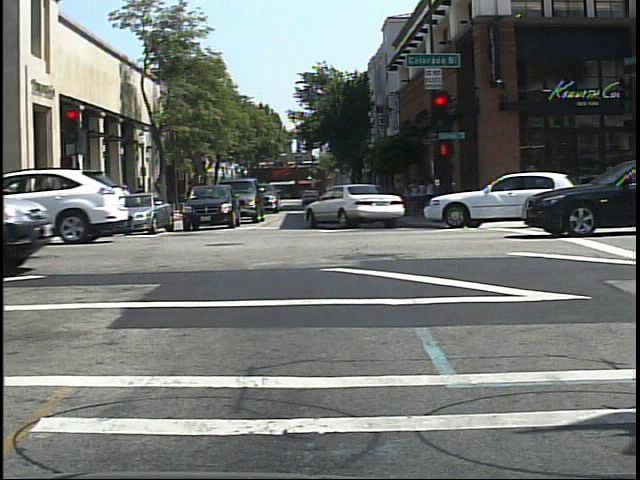person: (115, 181, 133, 219)
